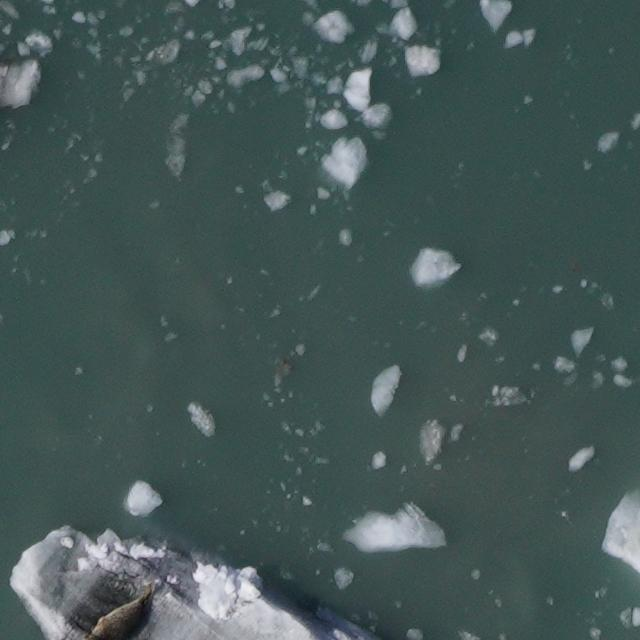seal: (79, 578, 162, 640)
